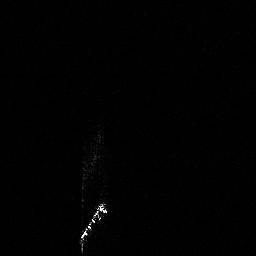ship: (81, 202, 106, 240)
